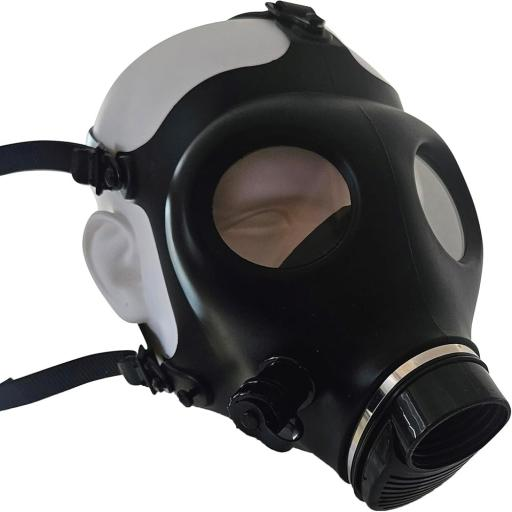mask: (136, 212, 512, 512)
